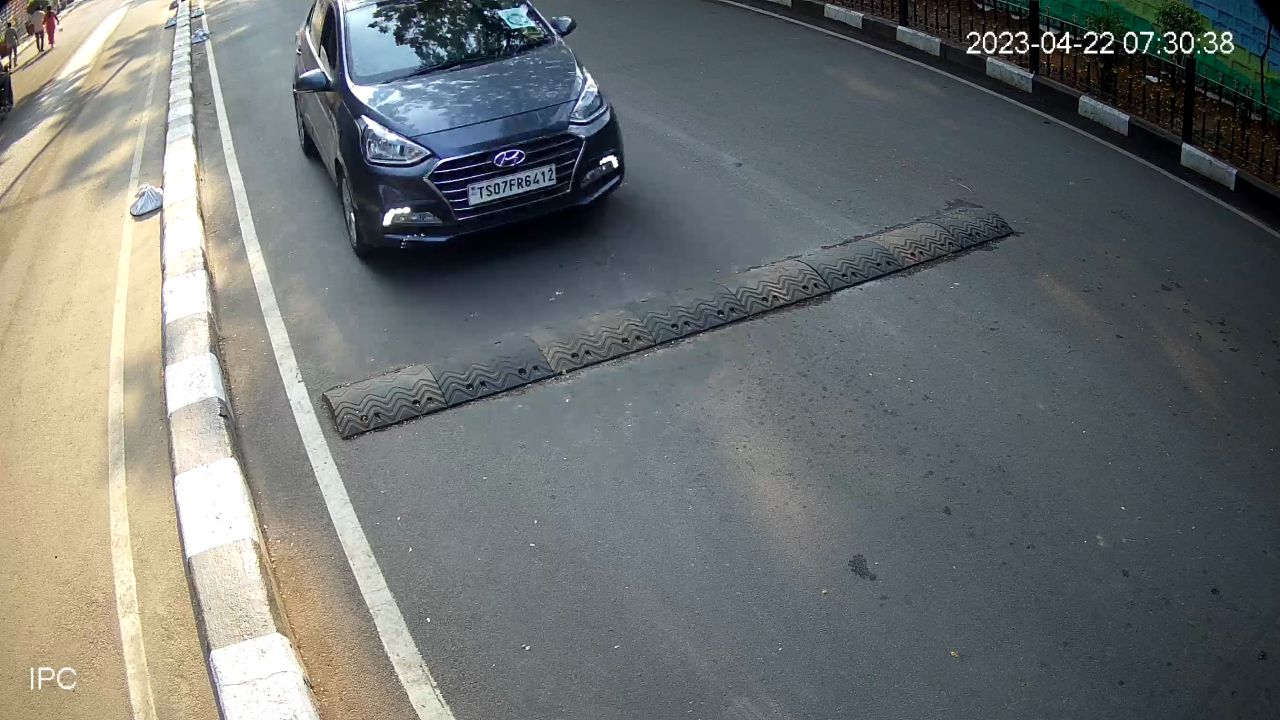license_plate: (462, 160, 560, 210)
